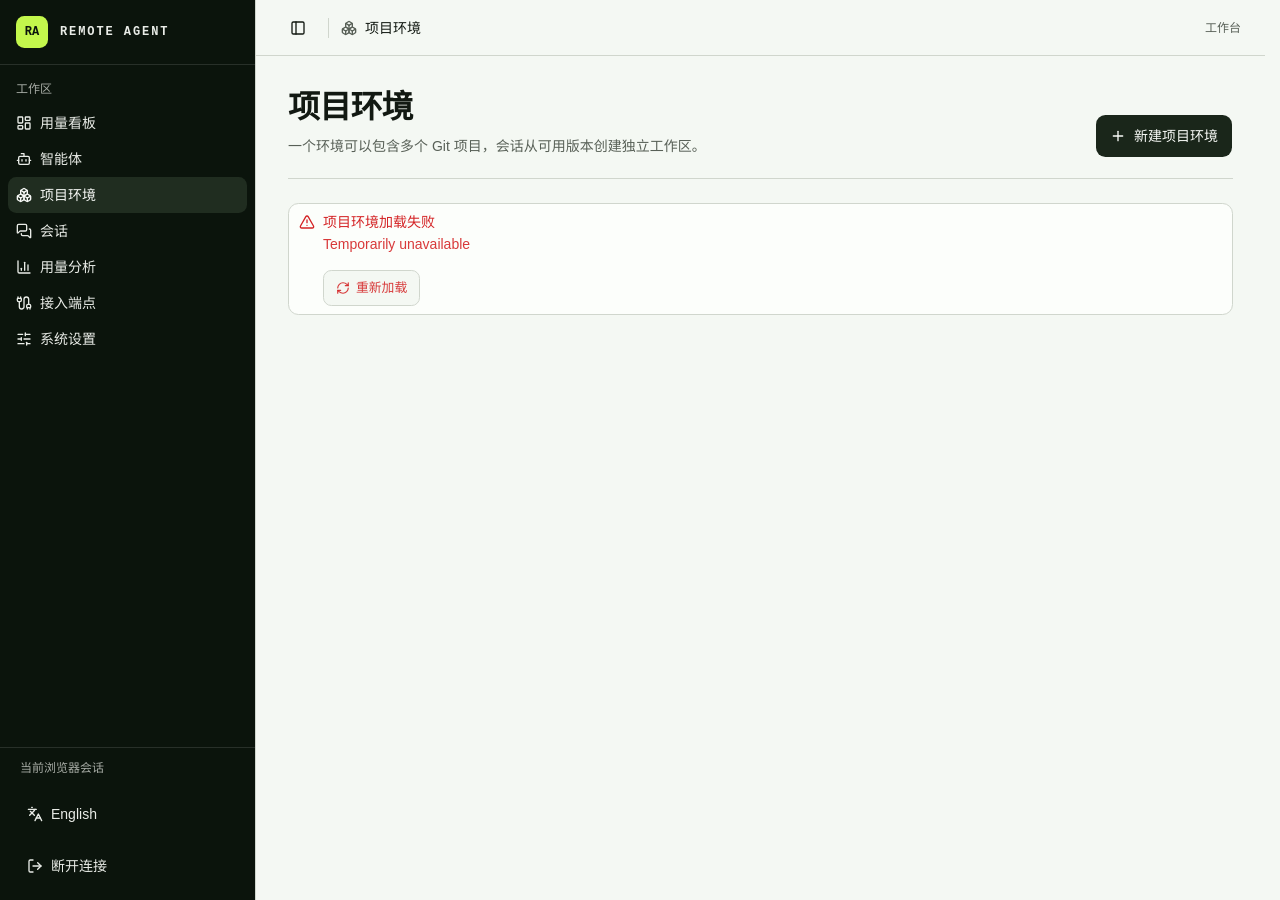
Test case: recovers a failed /project-environments list without leaving a loading skeleton
This screenshot has width=1280, height=900.
Check: the message shows "项目环境加载失败", box [323,214,435,230]
Click the button "重新加载" at (372, 288), box [323,270,420,306]
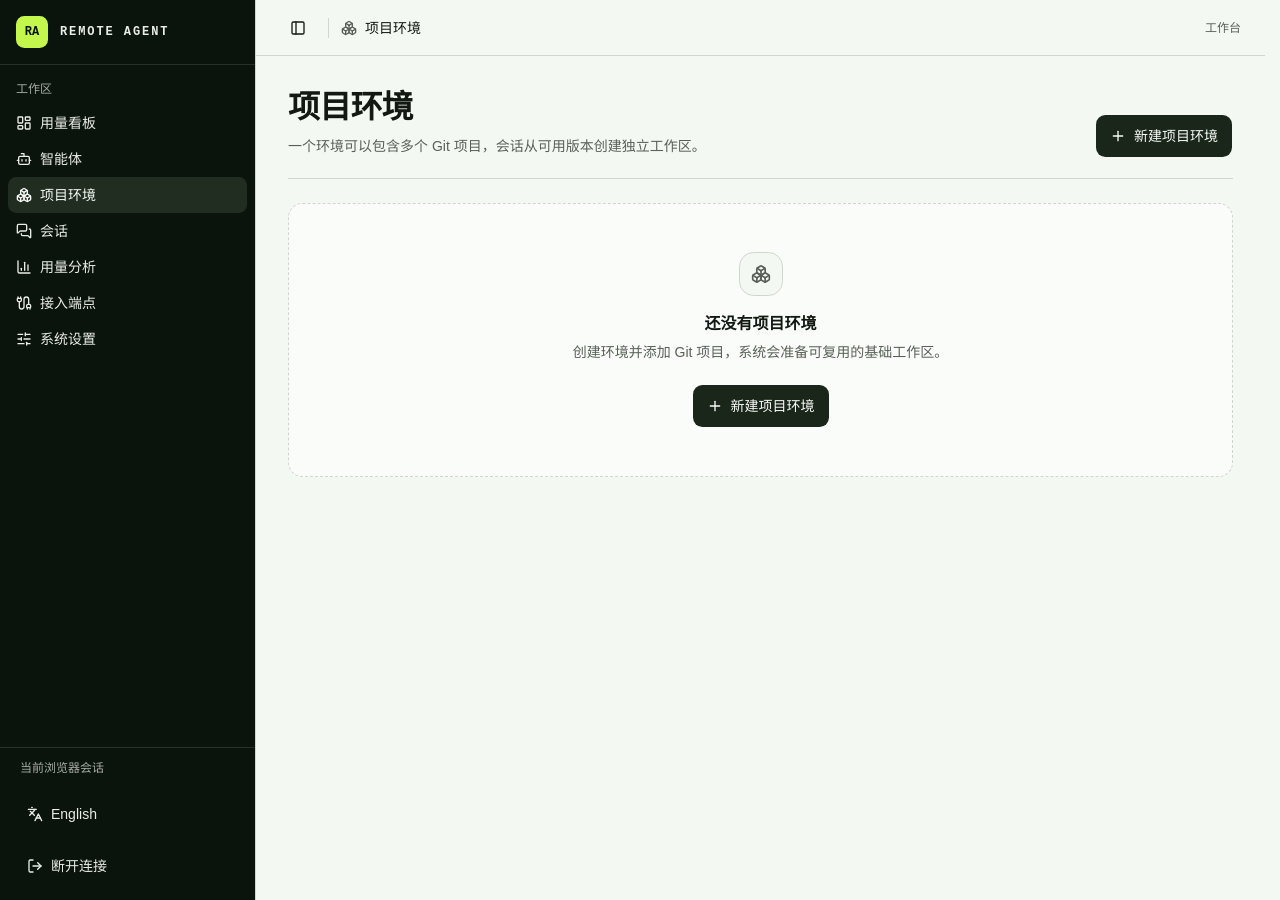
Check: the heading "还没有项目环境" is shown, box [704,312,816,336]
Check: the message "项目环境加载失败 Temporarily unavailable 重新加载" is gone
